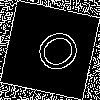O: (25, 25, 84, 83)
